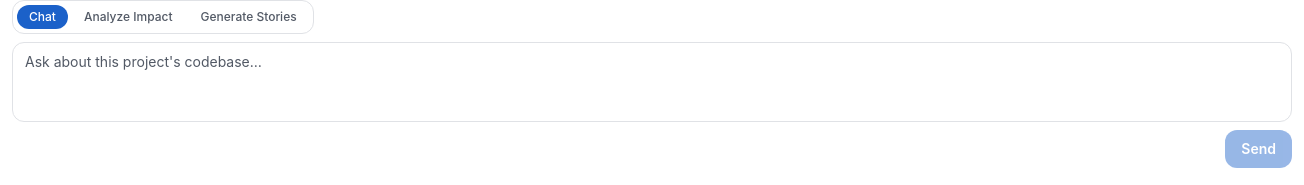
Test case: ChatComposer: mode toggle (impact analysis) › changes placeholder when Analyze Impact mode is activated
Click the button "Analyze Impact" at (128, 17), box x1=72 y1=5 x2=184 y2=29
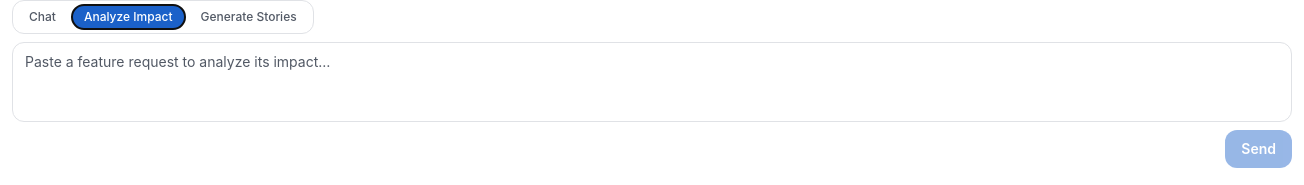
Now the text box with placeholder "Paste a feature request to analyze its impact…" is shown, box x1=12 y1=42 x2=1292 y2=122
